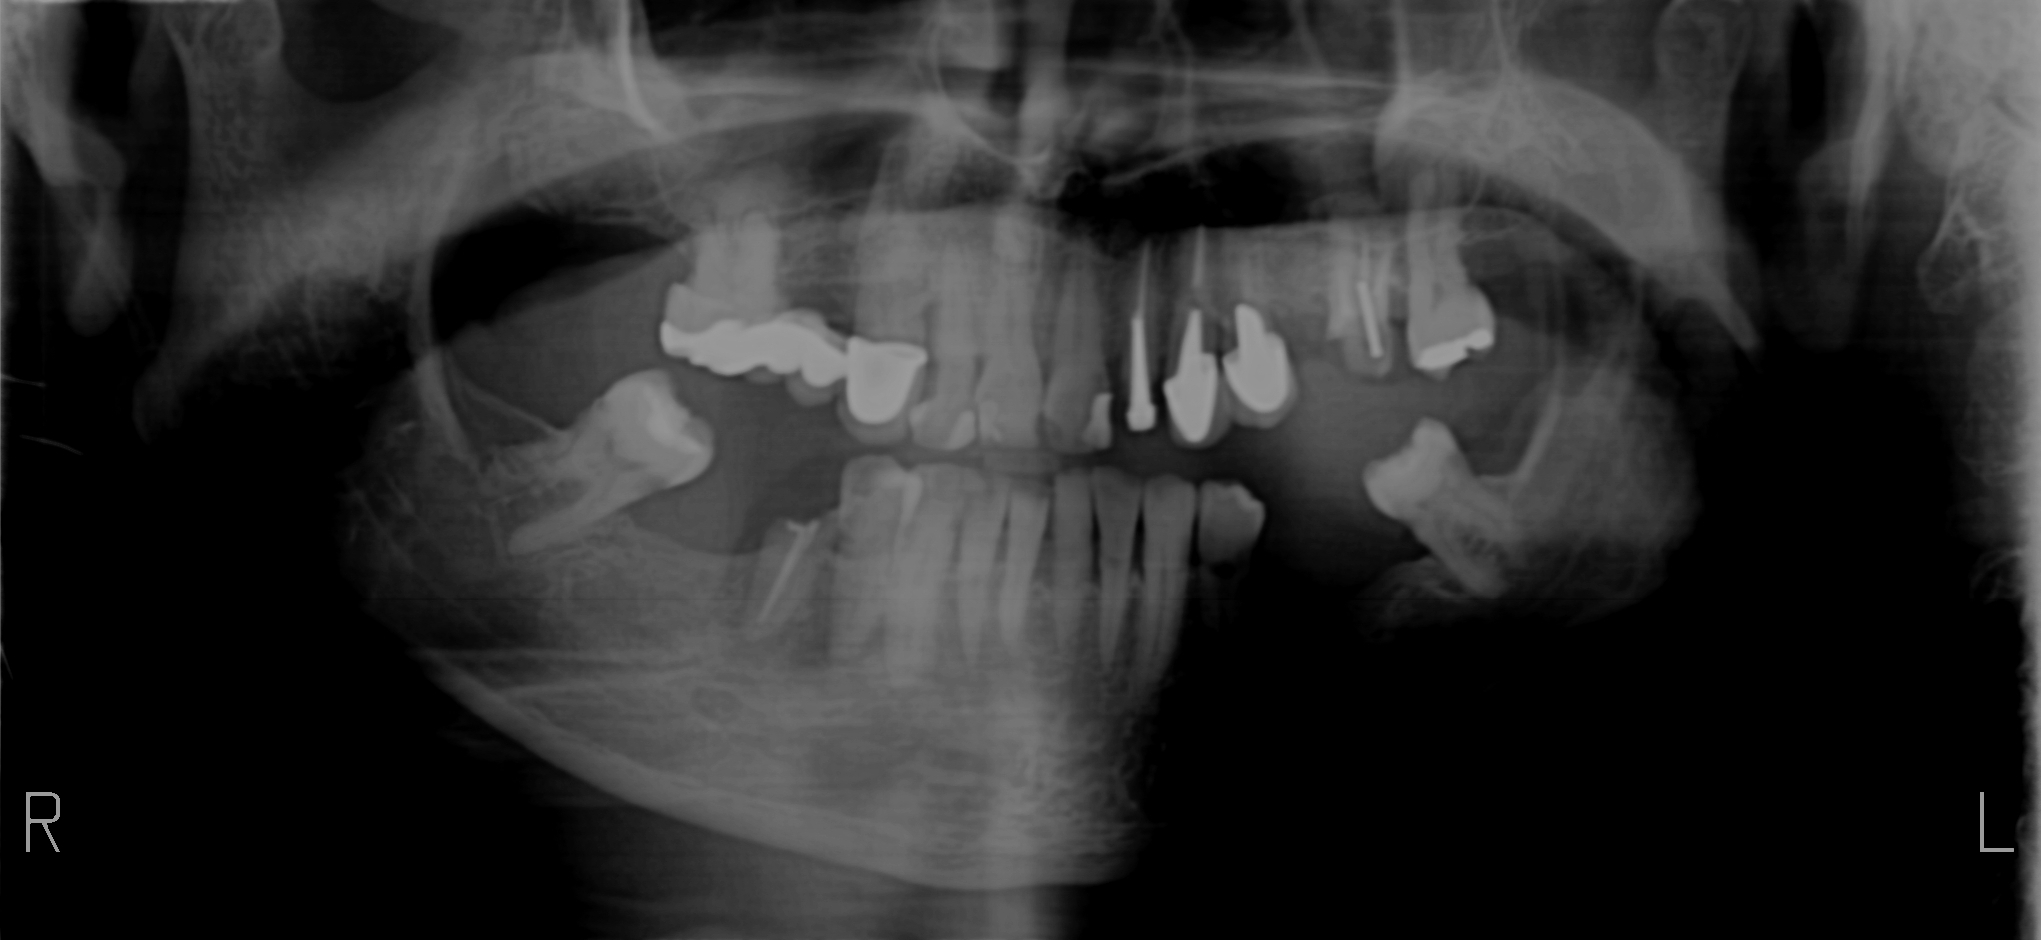cavity: (1043, 419, 1057, 439), (1035, 430, 1037, 431)
